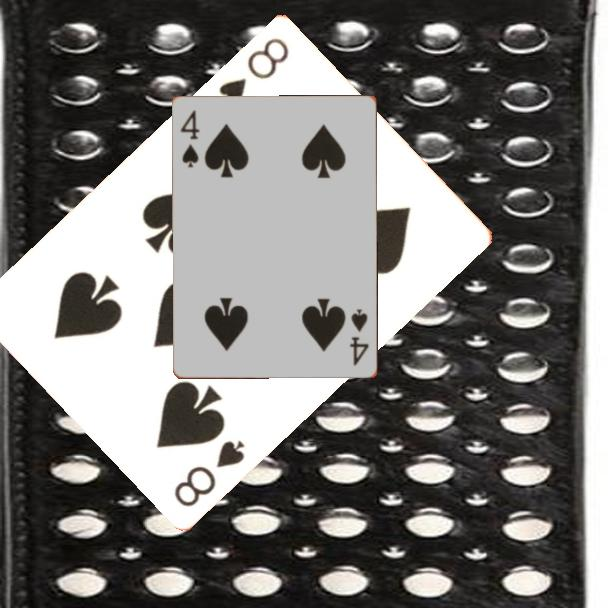s04: (177, 107, 203, 171), (346, 306, 372, 368)
s08: (215, 33, 292, 108), (170, 436, 248, 510)
